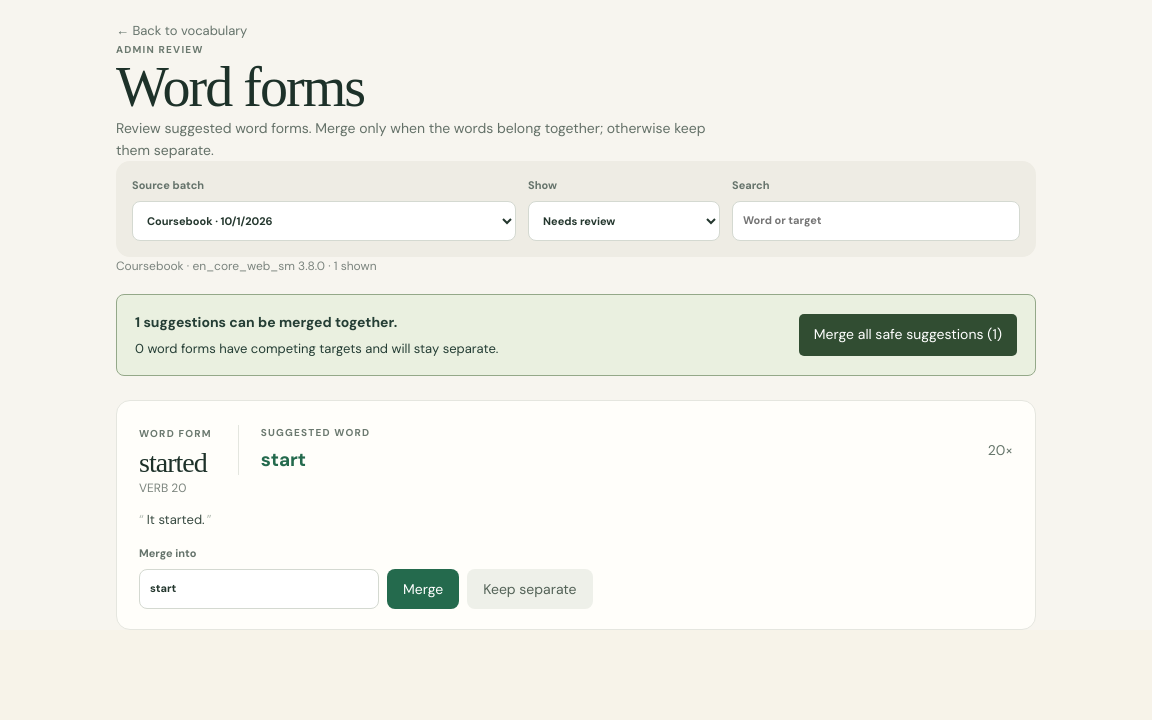
Test: vocabulary lemma review › shows frequent suggestions first and keeps feedback next to the reviewed word
(page scrolled)
Expected: the heading "started" is shown, 139,448 -> 212,478
Expected: the text "20×" is shown, 988,439 -> 1013,461
Click the button "Keep separate": (530, 589) 467,569 -> 592,609
(page scrolled)
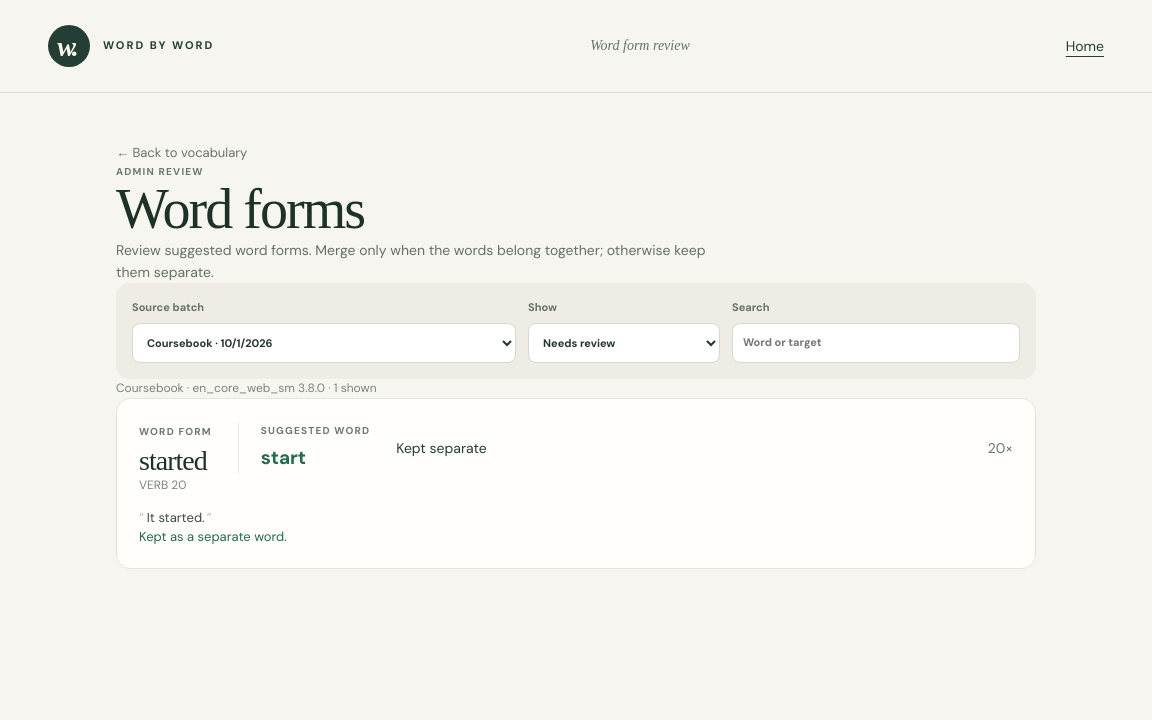
Expected: the message reads "Kept as a separate word.", 139,528 -> 287,545
Expected: the text "Kept separate" is shown, 396,436 -> 487,459
Expected: the button "Keep separate" is gone
